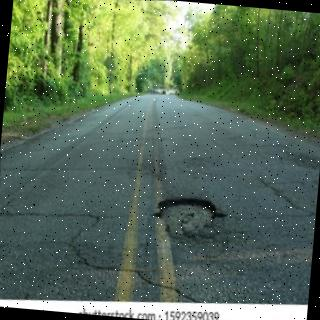pothole: (153, 198, 227, 234)
